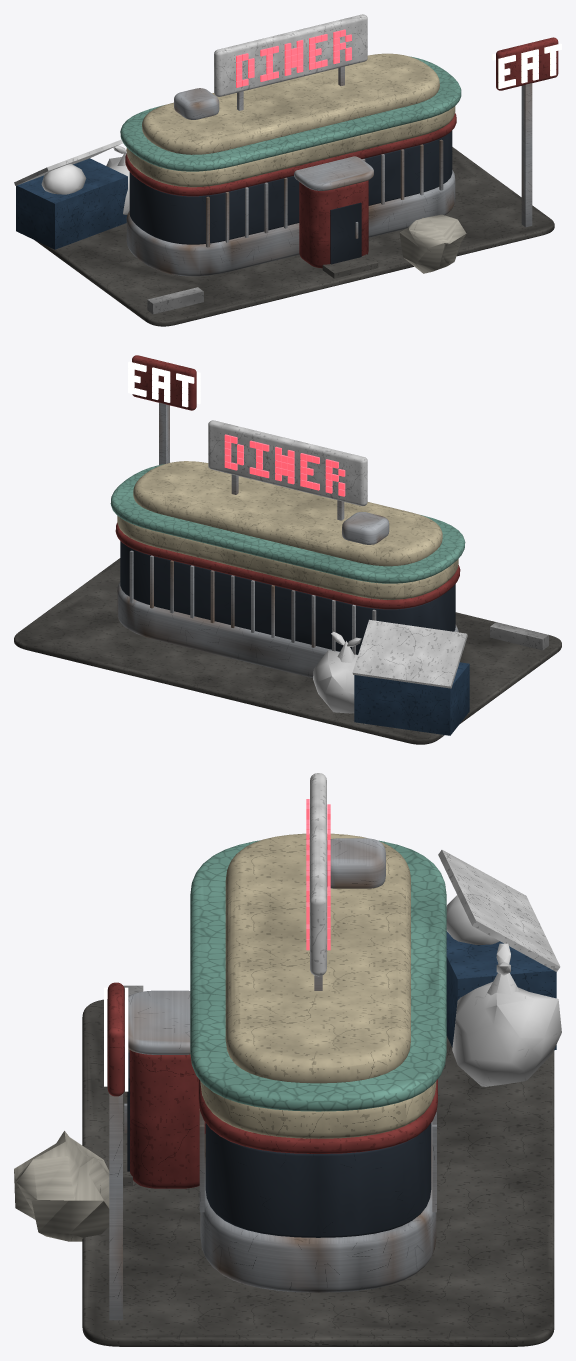
The model's file is diner.glb.
3 views of the same model, one above another, from view 1: azimuth 30°, elevation 25°; view 2: azimuth 150°, elevation 25°; view 3: azimuth 270°, elevation 25° (orthographic). The views are drawn at different scales.
Parts seen in each view (by area): view 1: diner, dumpster_217, crumpled_paper_230, group_48, group_156, trash_bag_225; view 2: diner, dumpster_217, group_101, trash_bag_225, group_186; view 3: diner, dumpster_217, trash_bag_225, crumpled_paper_230.
Part boxes in pixels (x1=…): diner: x1=35, y1=14, x2=558, y2=326; dumpster_217: x1=14, y1=139, x2=127, y2=249; crumpled_paper_230: x1=399, y1=214, x2=466, y2=273; group_48: x1=236, y1=29, x2=351, y2=87; group_156: x1=498, y1=43, x2=561, y2=88; trash_bag_225: x1=106, y1=145, x2=129, y2=214; diner: x1=14, y1=355, x2=561, y2=744; dumpster_217: x1=352, y1=619, x2=469, y2=735; group_101: x1=224, y1=434, x2=345, y2=496; trash_bag_225: x1=313, y1=631, x2=361, y2=713; group_186: x1=128, y1=361, x2=194, y2=407; diner: x1=82, y1=773, x2=554, y2=1346; dumpster_217: x1=438, y1=850, x2=560, y2=1050; trash_bag_225: x1=452, y1=943, x2=561, y2=1086; crumpled_paper_230: x1=14, y1=1131, x2=109, y2=1241.
Bounding box in the file's own units: 25.17 × 11.32 × 16.26.
Materials: 16 (13 with a texture image).
